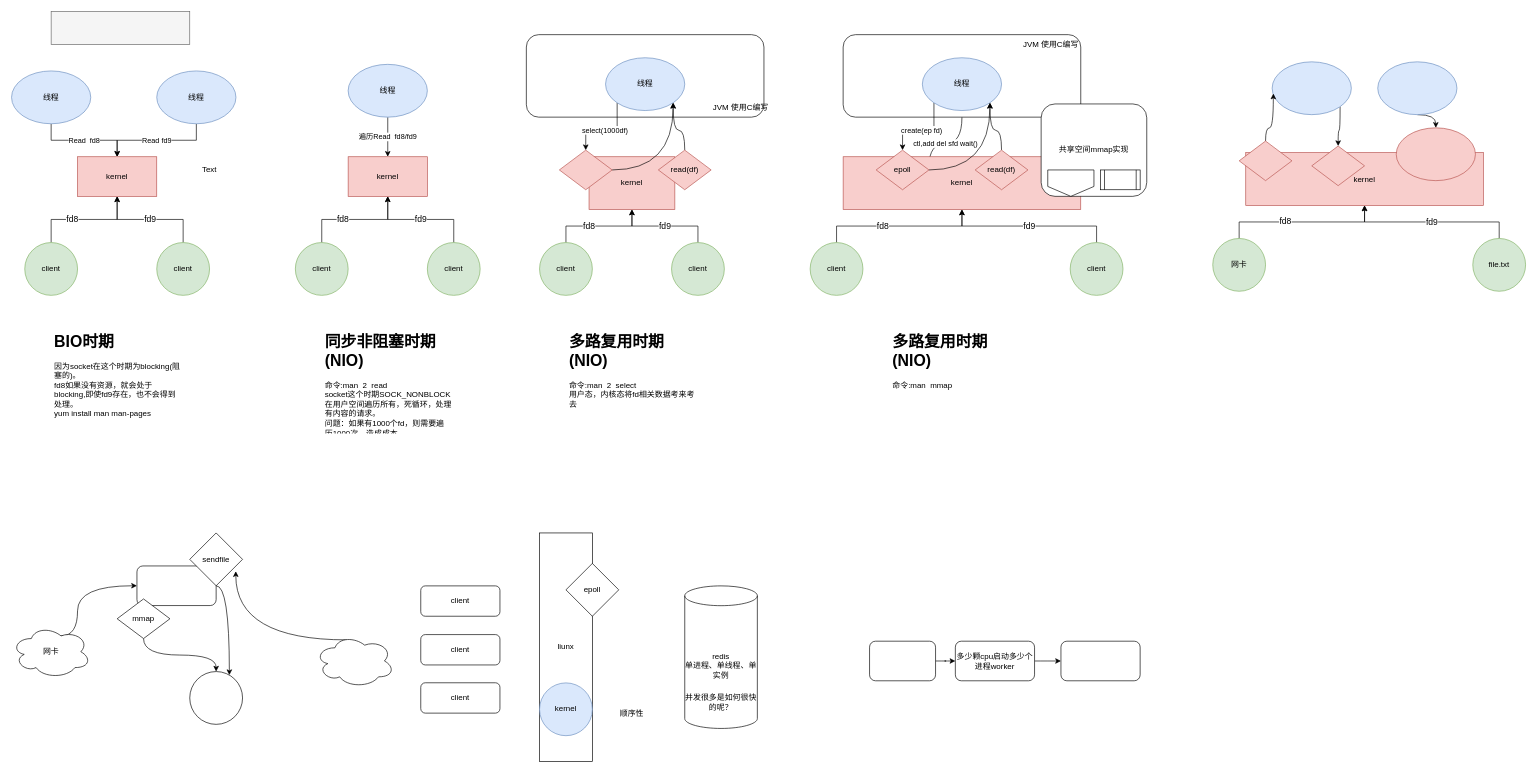
This 1537x774 diagram has some shape labels left out. Here are the shapes that lost their labels. From the top down, the centre of each, then its label:
(120,28): JVM:一个线程成本1MB 1.线程多了，cpu调度频繁，浪费资源 2.消耗内存成本
(585,169): select
(1265,160): read(fd9)
(1338,165): write(fd8)
(1435,154): sendfile(out,in)
(1070,182): 红黑树
(1120,179): 链表
(176,585): Kafka基于jvm
(354,660): 消费者
(902,661): nginx
(1100,661): kernel的epoll 同步，非阻塞 多路复用
(216,697): file
